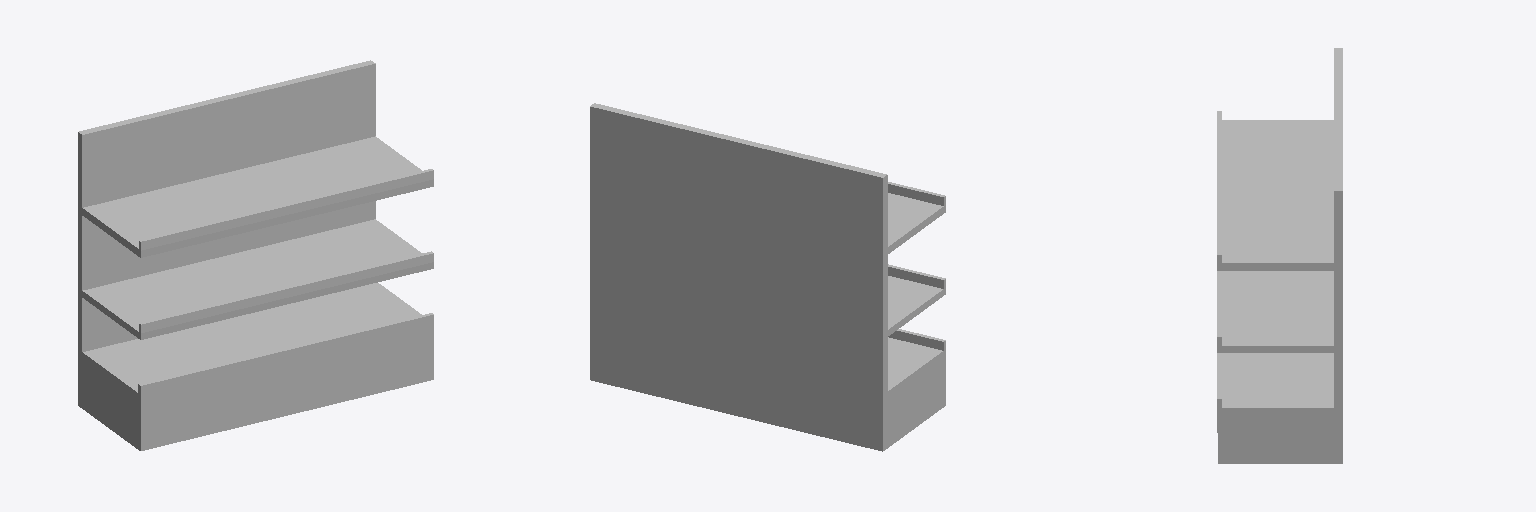
The model's file is shelf.obj.
3 views of the same model, side by side, from view 1: azimuth 30°, elevation 25°; view 2: azimuth 150°, elevation 25°; view 3: azimuth 270°, elevation 25° (orthographic).
Visible parts, largest first — view 1: Shelf; view 2: Shelf; view 3: Shelf.
Part boxes in pixels (x1,y1,x2,y2): Shelf: (78, 60, 433, 450); Shelf: (590, 103, 945, 451); Shelf: (1217, 48, 1342, 463).
Bounding box in the file's own units: 6.04 × 5.39 × 2.25.